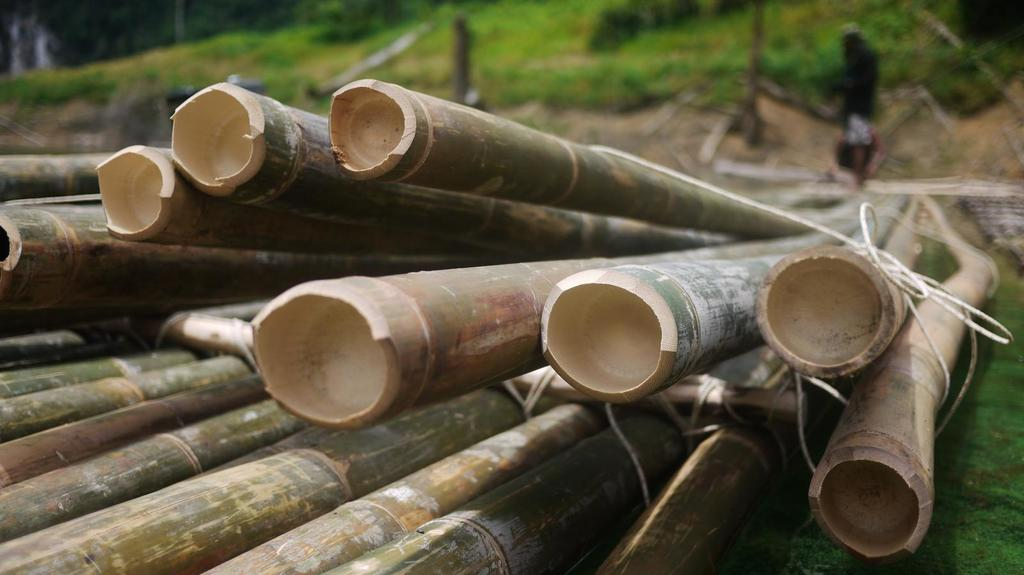person: (819, 112, 886, 192)
